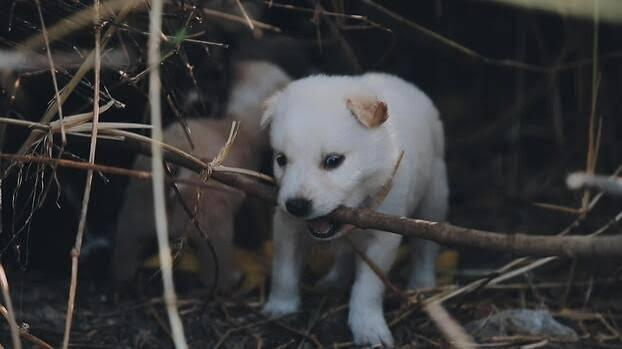puppy-dog: (248, 74, 451, 346), (107, 114, 274, 294)
